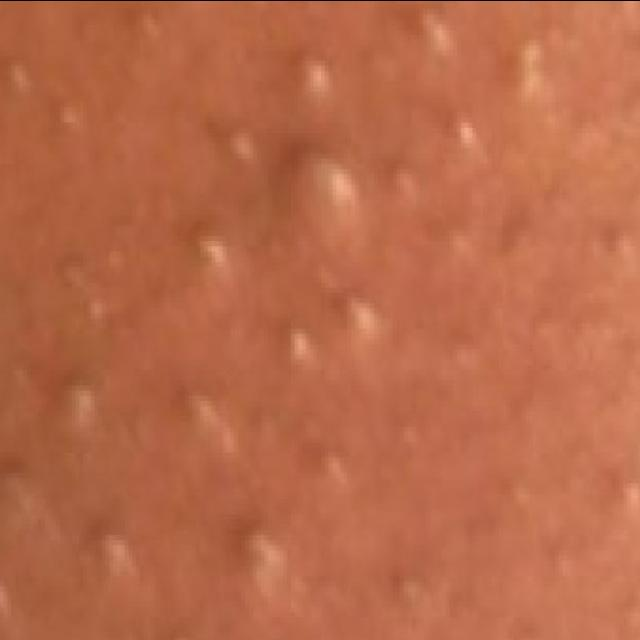whitehead: (0, 4, 602, 523)
